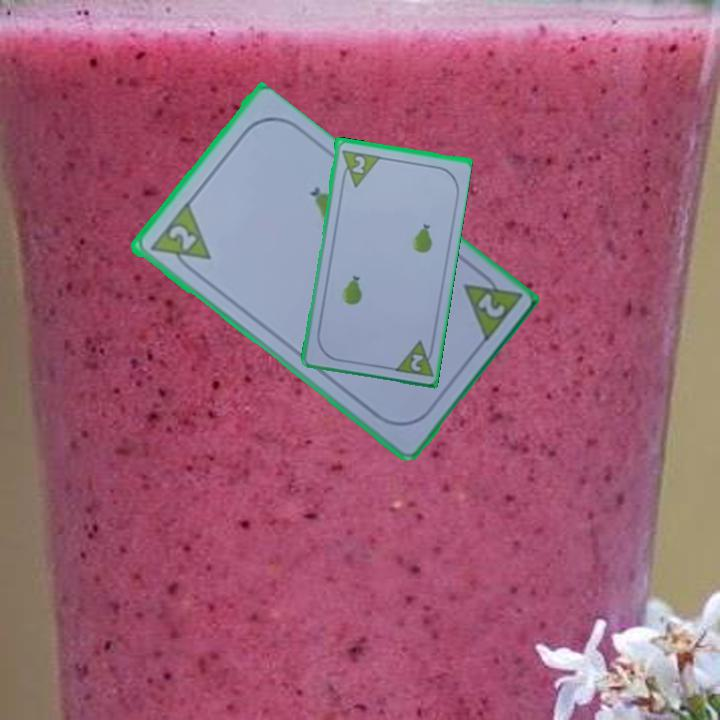2p: (458, 264, 524, 347), (164, 221, 199, 254), (349, 152, 368, 176), (407, 350, 426, 374)
